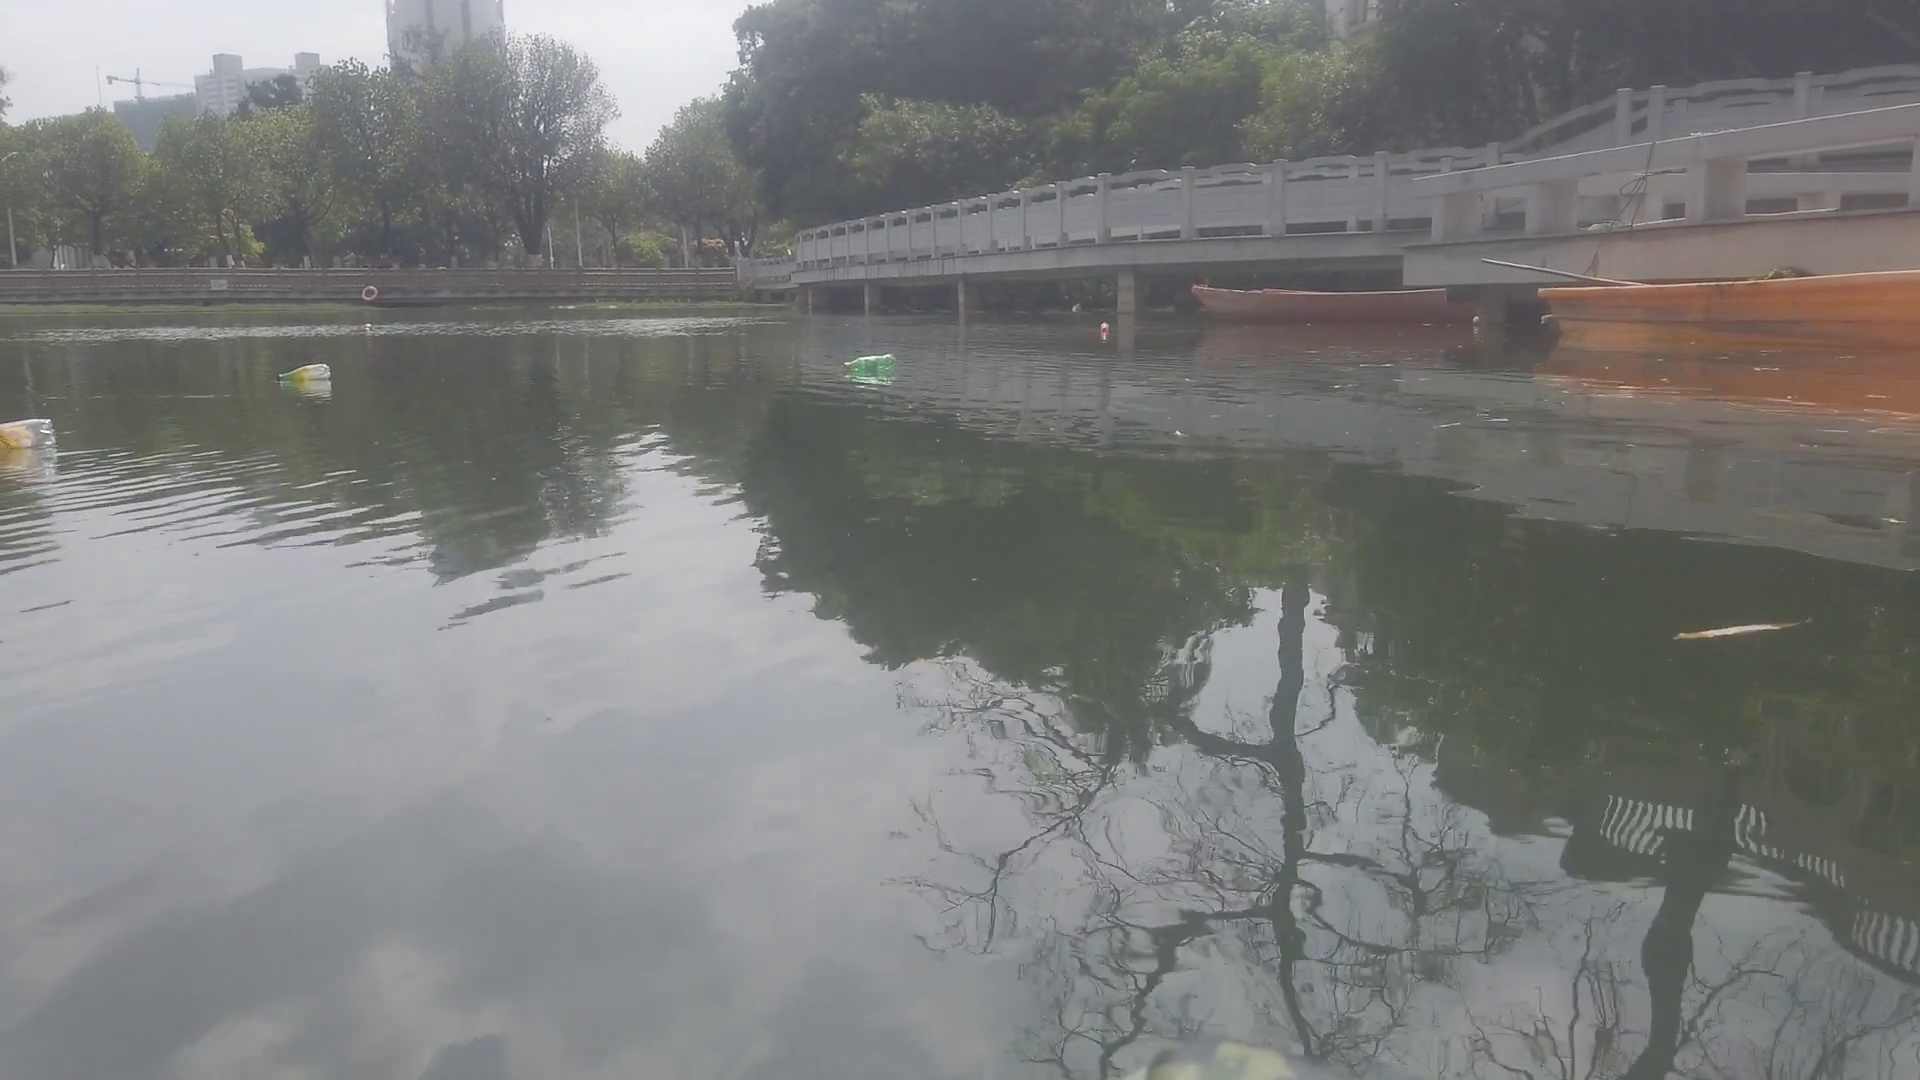bottle: (1, 415, 58, 452), (274, 364, 334, 382), (843, 351, 895, 369), (360, 320, 376, 332), (1097, 320, 1109, 334)
